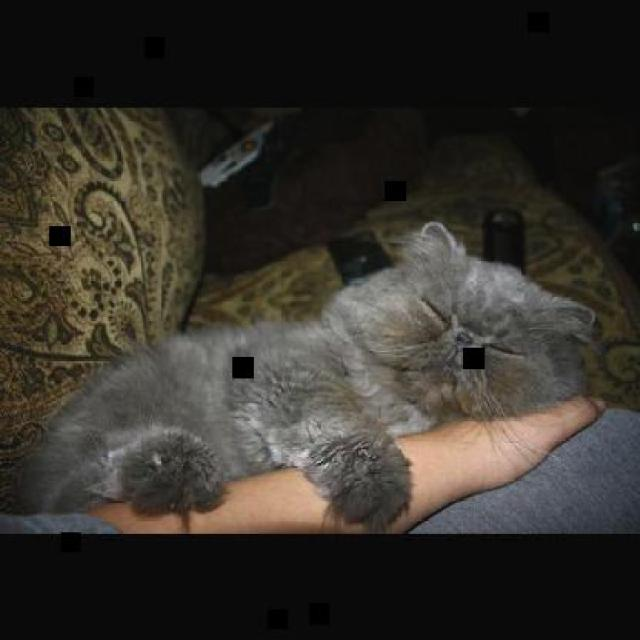unauthorized: (18, 218, 597, 531)
